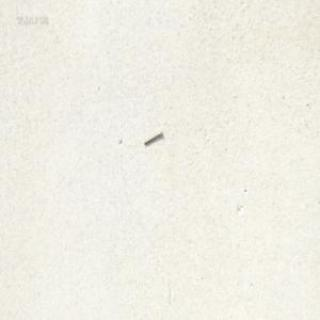Bolttrack_idkeyframe: (142, 128, 162, 144)
